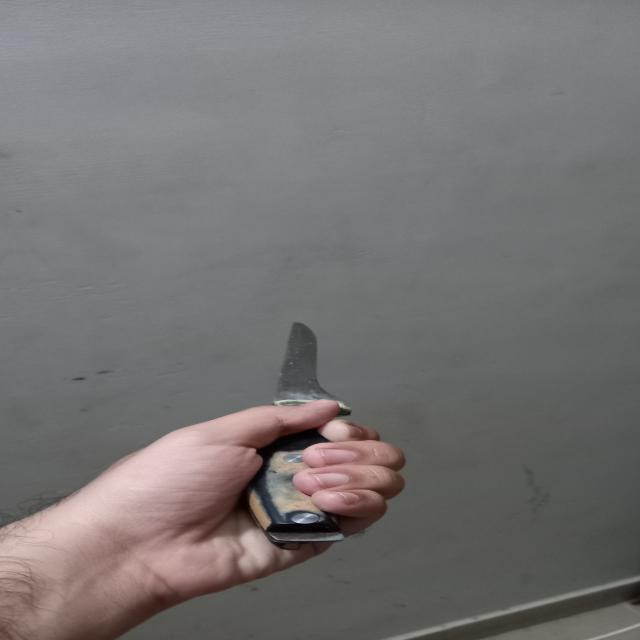Knife: (239, 314, 399, 553)
